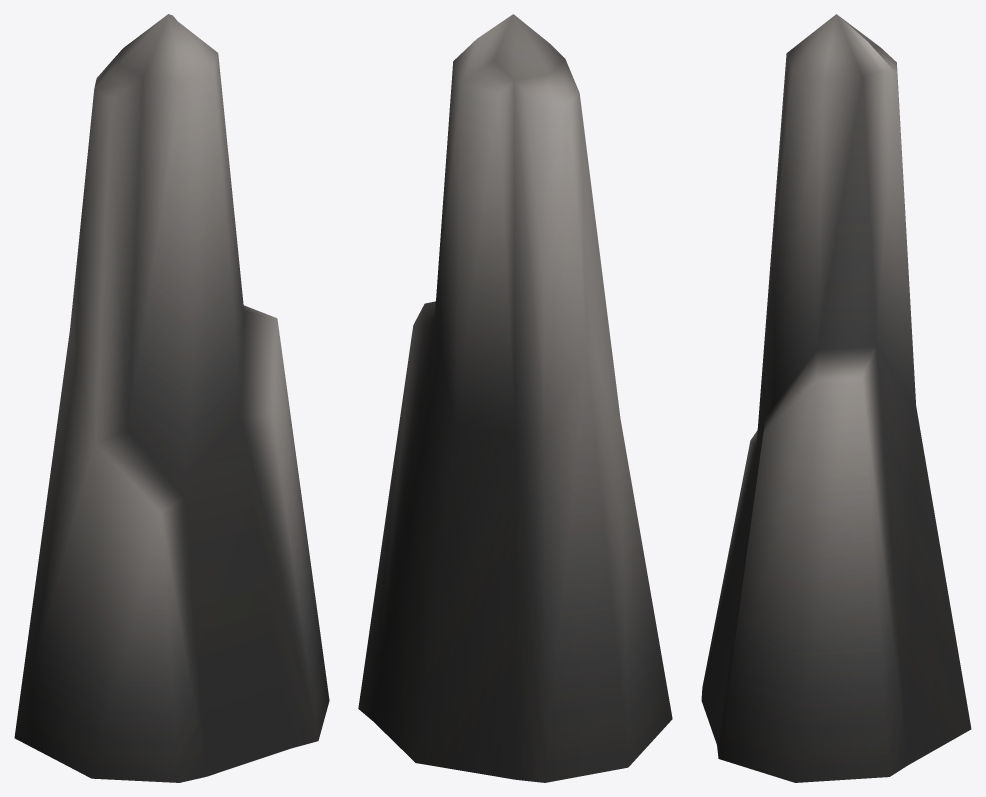
The model's file is m_Rocks05_A.fbx.
The picture shows the model from 3 angles, left to right: view 1: azimuth 30°, elevation 25°; view 2: azimuth 150°, elevation 25°; view 3: azimuth 270°, elevation 25°; orthographic projection.
Parts seen in each view (by area): view 1: m_Rocks05_A; view 2: m_Rocks05_A; view 3: m_Rocks05_A.
Boxes of the visible parts, x1,y1,x2,y2 form: m_Rocks05_A: [14, 14, 329, 782]; m_Rocks05_A: [358, 14, 672, 782]; m_Rocks05_A: [701, 14, 971, 782].
Size of the model in its own units: 204 by 500 by 175.
